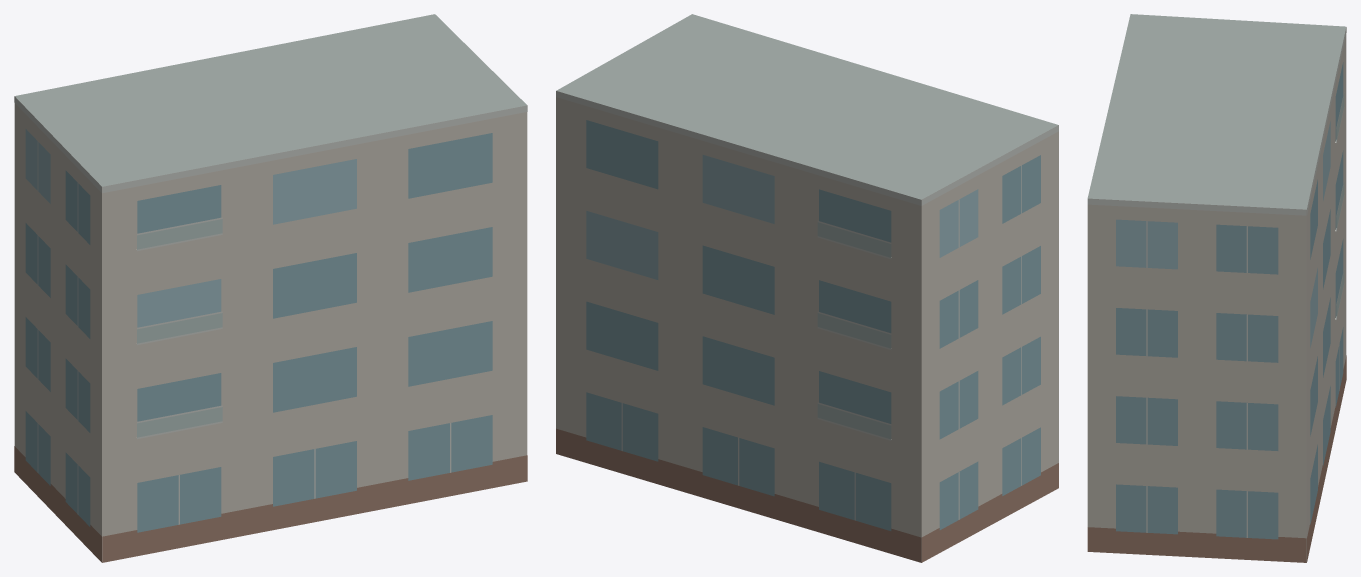
The model's file is survey-upis-32813931.glb.
The picture shows the model from 3 angles, left to right: view 1: azimuth 30°, elevation 25°; view 2: azimuth 150°, elevation 25°; view 3: azimuth 270°, elevation 25°; orthographic projection. The views are drawn at different scales.
Parts seen in each view (by area): view 1: survey-upis-32813931.tmp; view 2: survey-upis-32813931.tmp; view 3: survey-upis-32813931.tmp.
Part boxes in pixels (box(x1,y1,x2,y2)): survey-upis-32813931.tmp: box(14, 14, 527, 562); survey-upis-32813931.tmp: box(556, 14, 1058, 562); survey-upis-32813931.tmp: box(1087, 14, 1346, 562).
Bounding box in the file's own units: 16.88 × 14.2 × 9.44.
